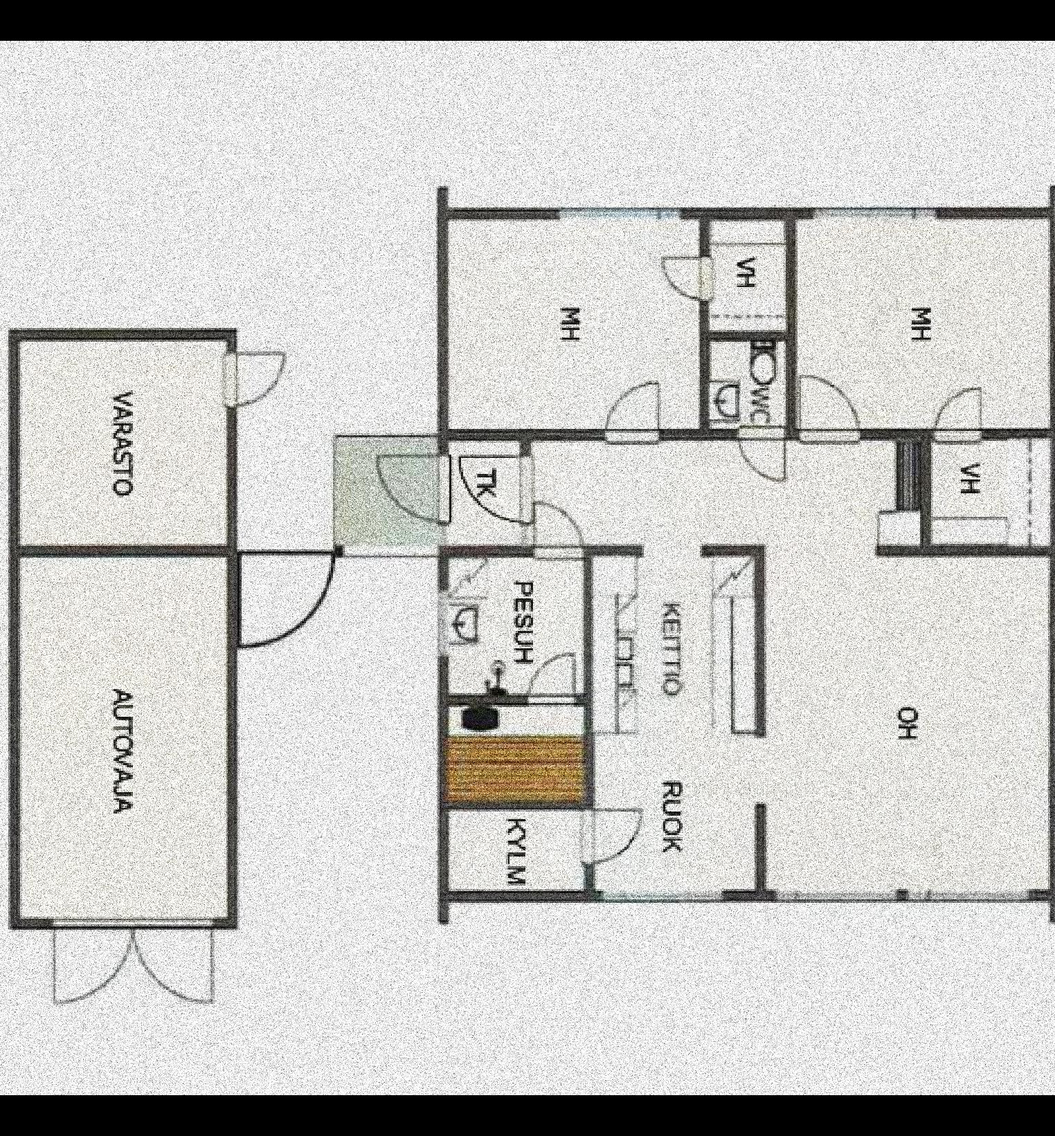door: (48, 918, 216, 1011), (224, 547, 332, 656), (458, 448, 535, 524), (377, 455, 453, 522), (791, 374, 859, 447), (569, 805, 646, 868), (598, 386, 665, 452), (527, 495, 585, 562), (223, 345, 284, 408), (738, 424, 790, 490), (925, 384, 976, 448), (661, 252, 714, 306), (528, 650, 574, 709)
window: (768, 888, 1026, 904), (807, 202, 932, 223), (559, 205, 675, 225), (433, 588, 453, 663), (602, 888, 722, 900)
zone: (524, 437, 1055, 884), (20, 560, 226, 920), (451, 217, 706, 434), (800, 220, 1055, 430), (15, 337, 226, 544), (450, 555, 585, 697), (928, 440, 1055, 545), (451, 706, 580, 800), (339, 432, 442, 547), (450, 815, 582, 889), (710, 219, 784, 331), (706, 338, 790, 430), (453, 441, 517, 543)
